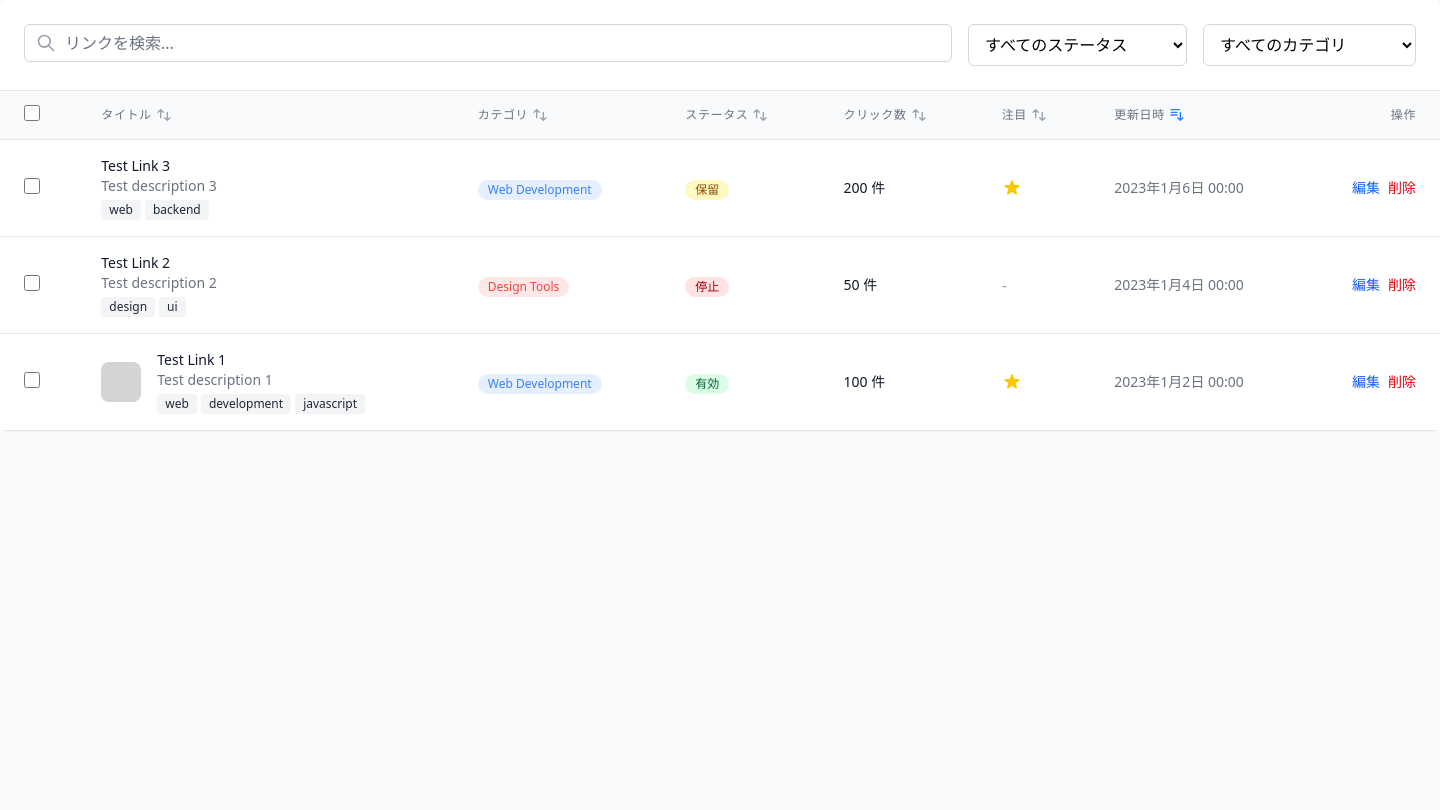
Scenario: LinkManagementTable › cancels delete confirmation
Click the button "削除" in the row of "Test description 3": click(1402, 188) [1388, 178, 1416, 198]
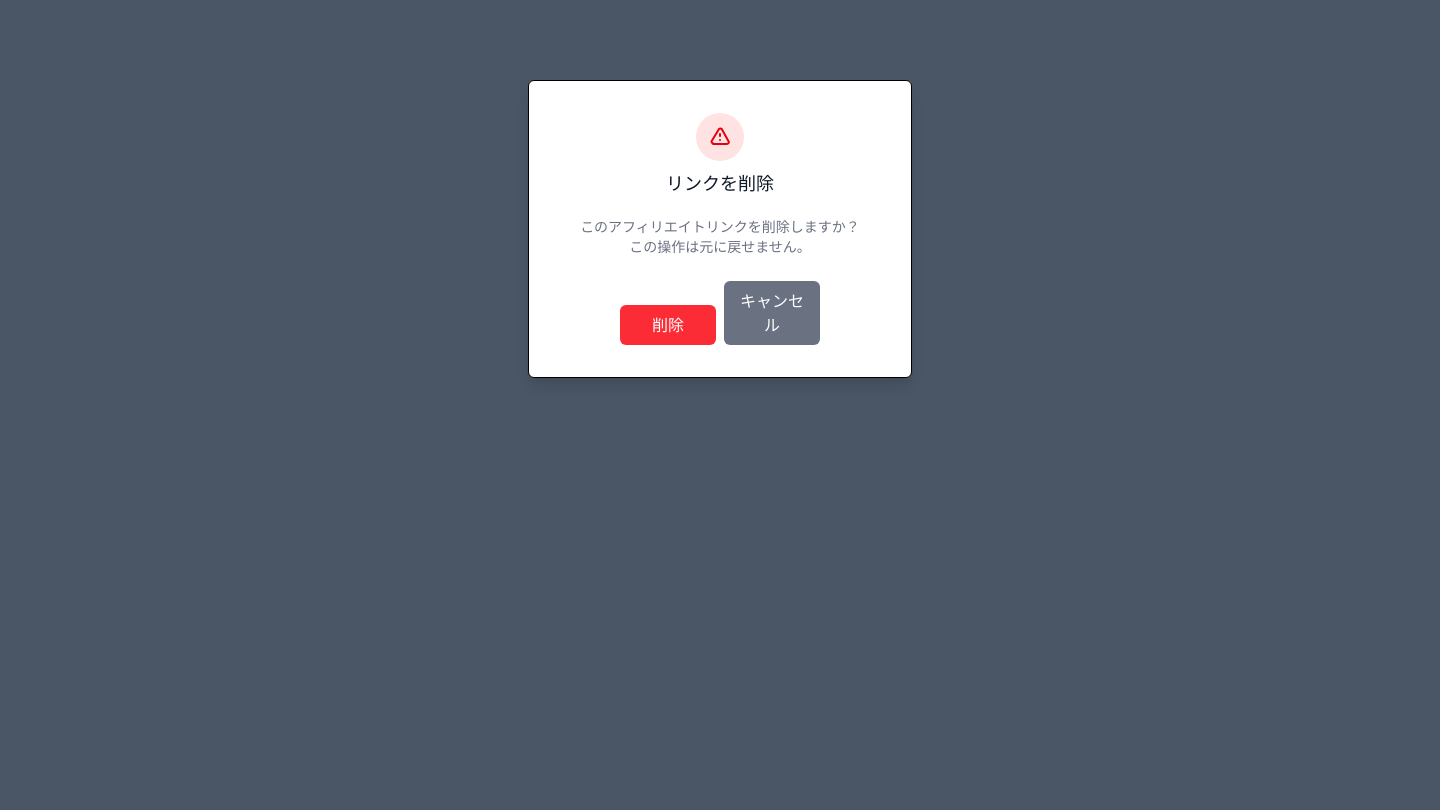
// Cancel deletion
Click the button "キャンセル": click(772, 313) [724, 281, 820, 345]
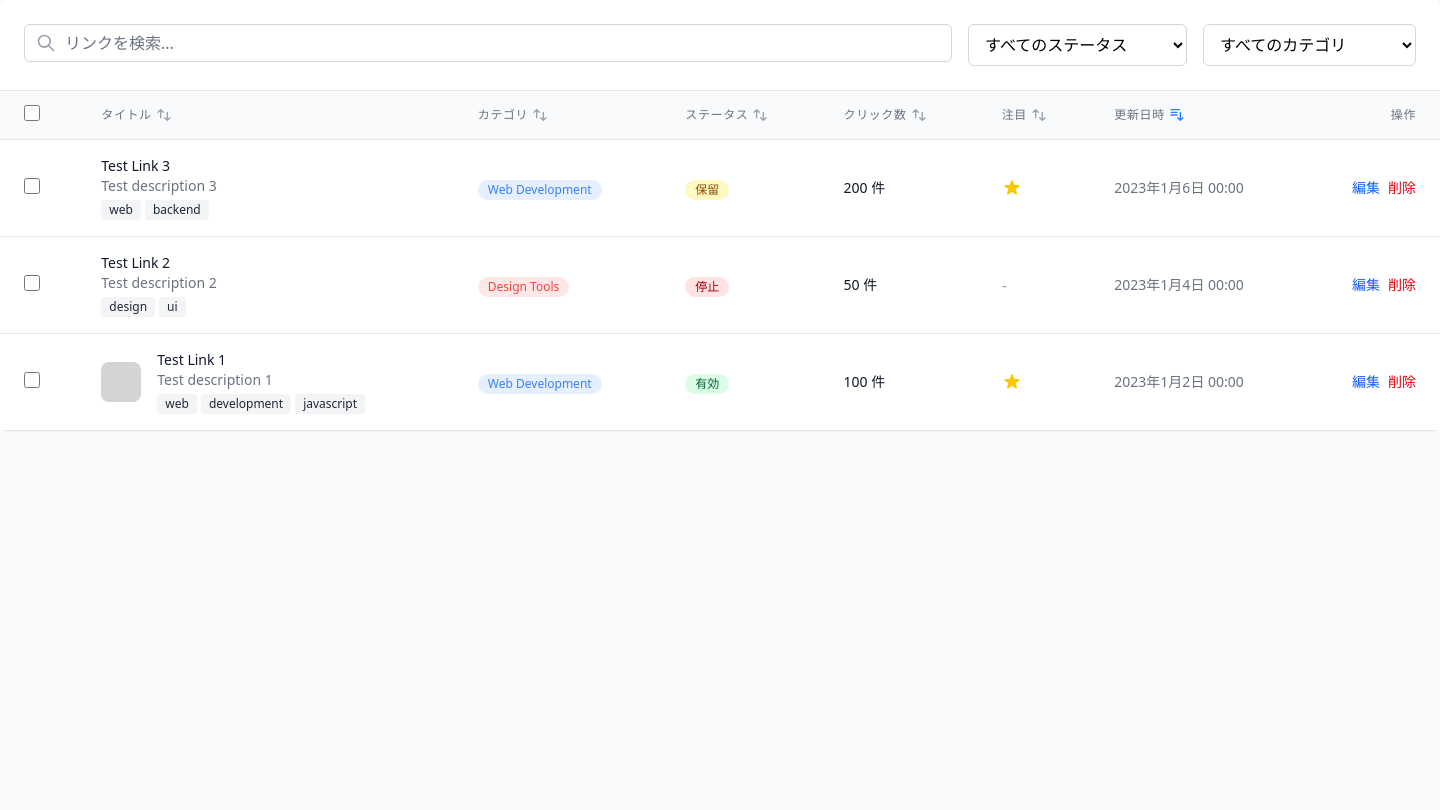
Expected: the heading "リンクを削除" is gone
